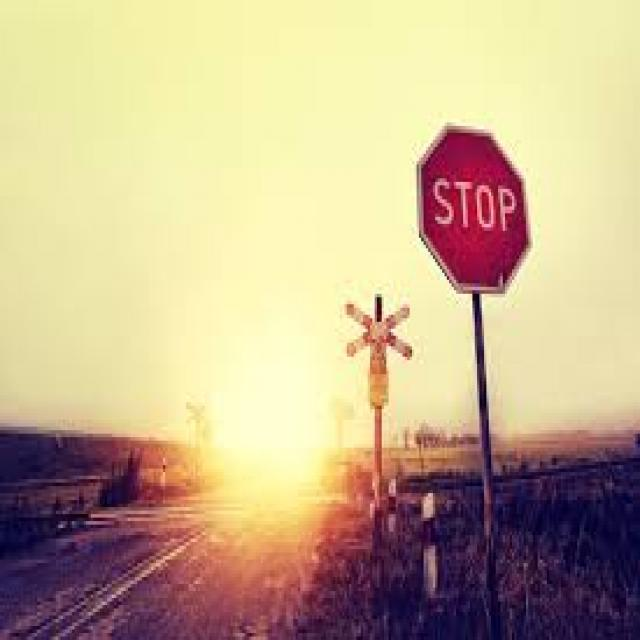stop-sign: (414, 117, 548, 292)
